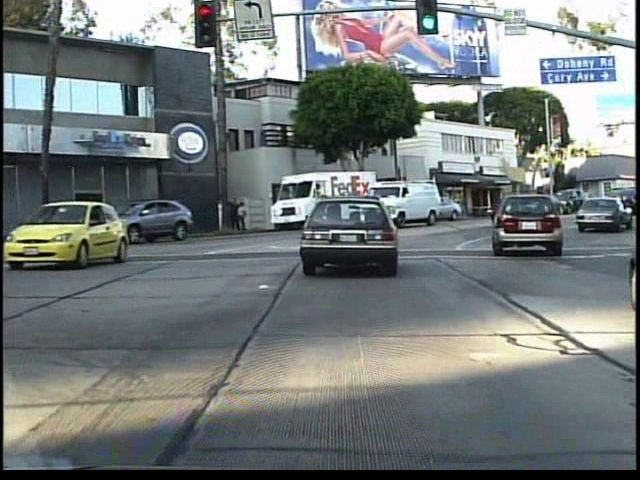person: (228, 194, 240, 233), (238, 201, 251, 234)
